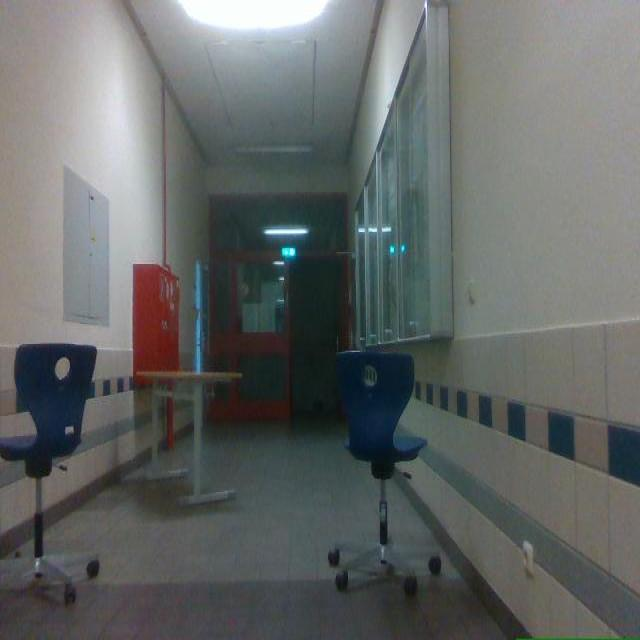objects: (0, 344, 98, 603), (336, 352, 426, 594)
